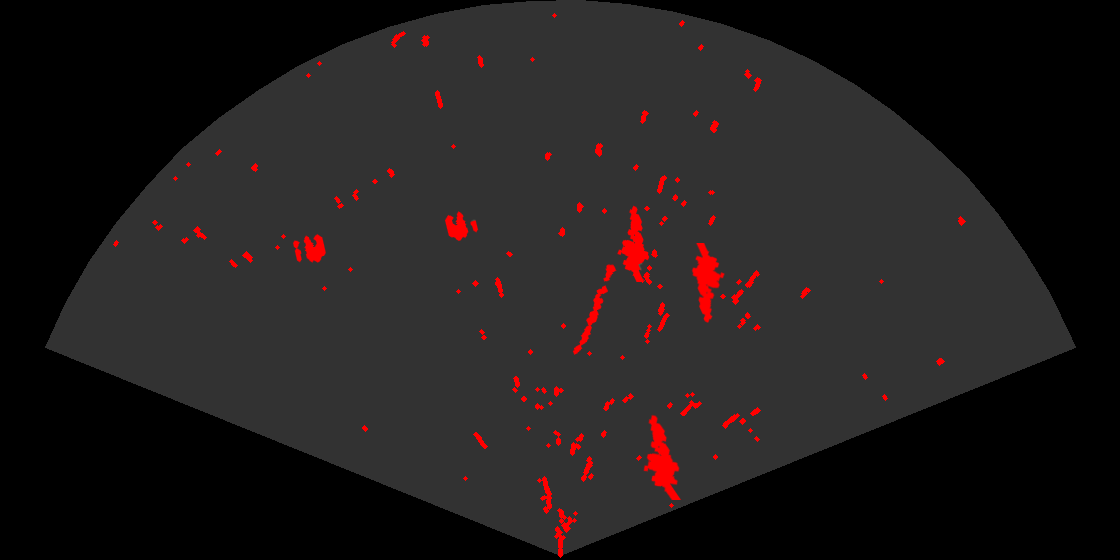ball: (443, 210, 480, 243), (291, 232, 327, 264)
chain: (571, 262, 618, 356)
frogman: (642, 413, 683, 500), (690, 243, 726, 324), (616, 204, 651, 282)
